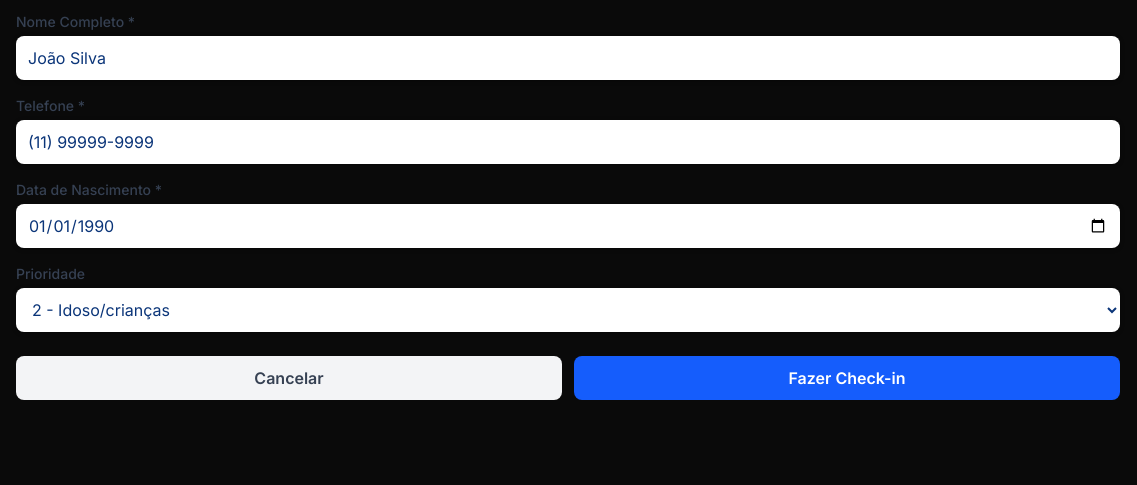
NewPatientCheckInForm › validates required fields
# Clear name field
Clear the field showing "João Silva" below "Nome Completo *" at (568, 58), box x1=16 y1=36 x2=1120 y2=80
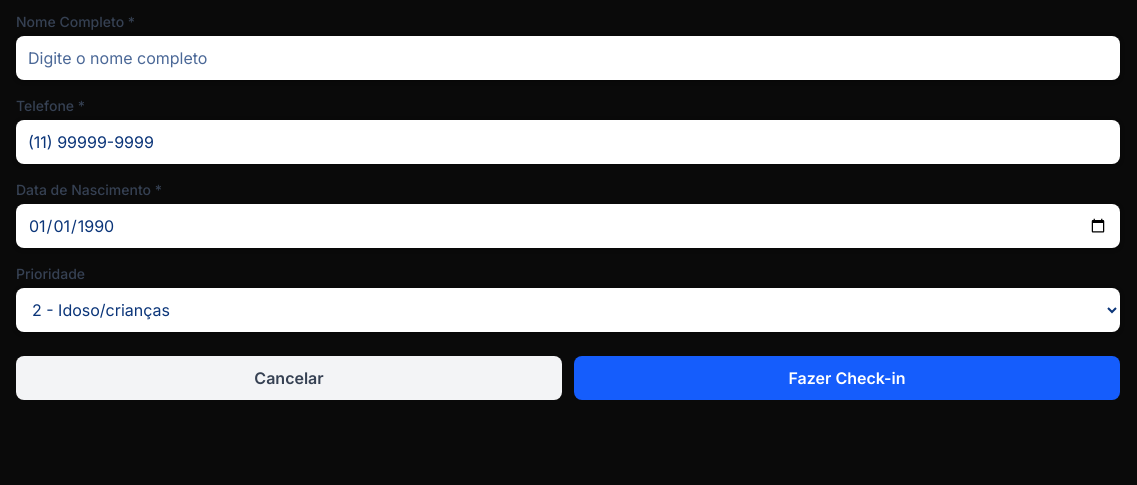
# Try to submit
Click the button "Fazer Check-in" at (847, 378), box x1=574 y1=356 x2=1120 y2=400
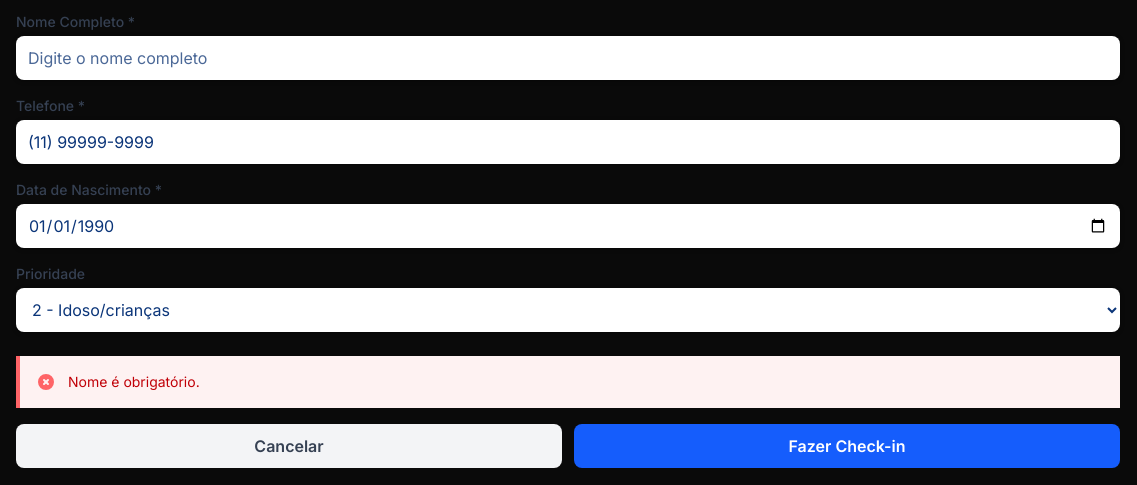
Now the text "Nome é obrigatório." is shown, box x1=68 y1=373 x2=200 y2=390
